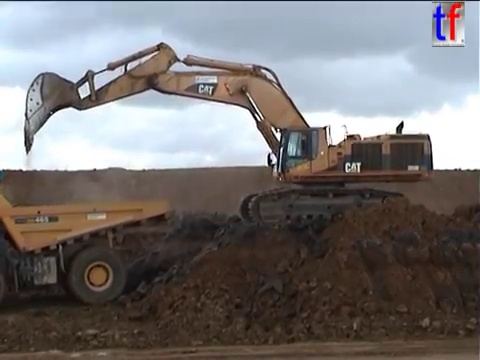excavator: (20, 38, 435, 232)
truck: (1, 192, 170, 305)
